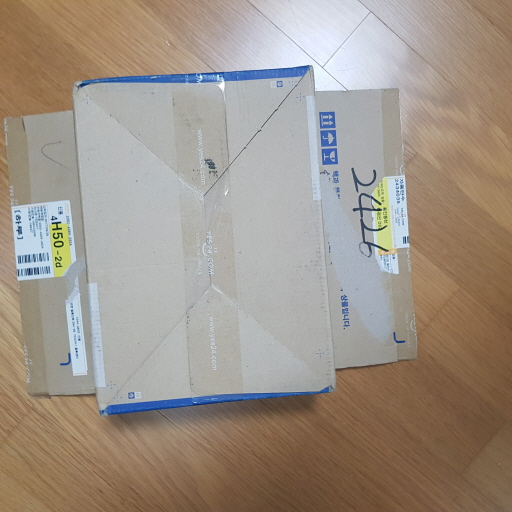Paper_0: (1, 64, 419, 420)
